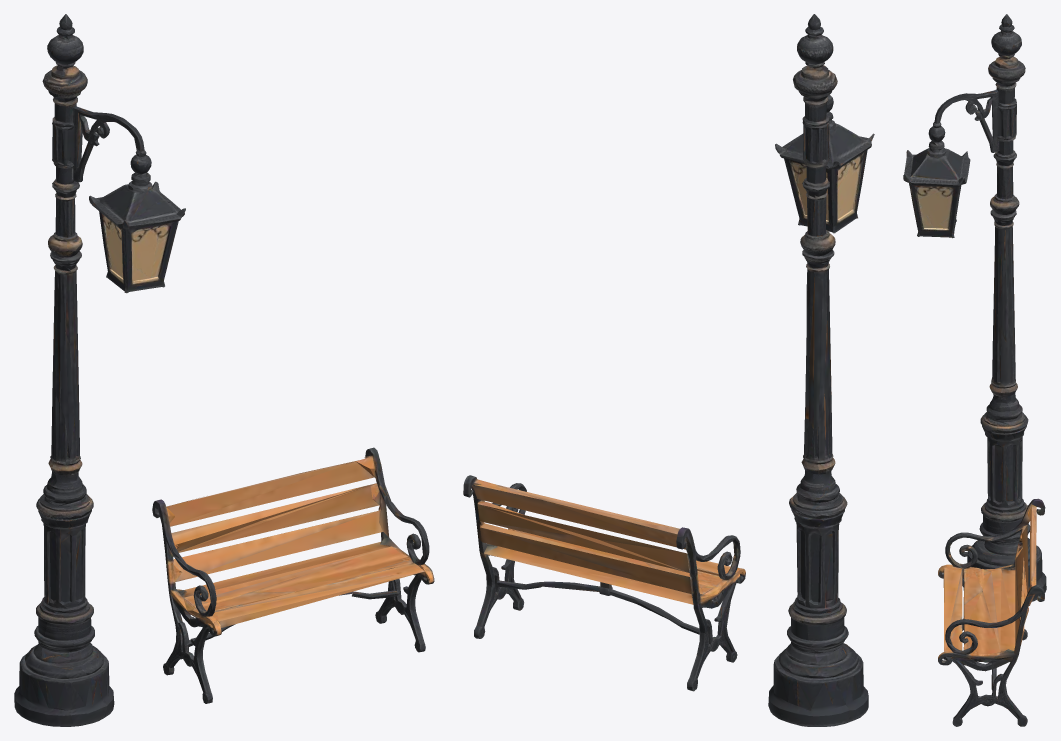
File: lamp.glb
The picture shows the model from 3 angles, left to right: view 1: azimuth 30°, elevation 25°; view 2: azimuth 150°, elevation 25°; view 3: azimuth 270°, elevation 25°; orthographic projection. The views are drawn at different scales.
Bounding box in the file's own units: 1.07 × 1.9 × 0.4259.
Materials: 1 (1 with a texture image).
